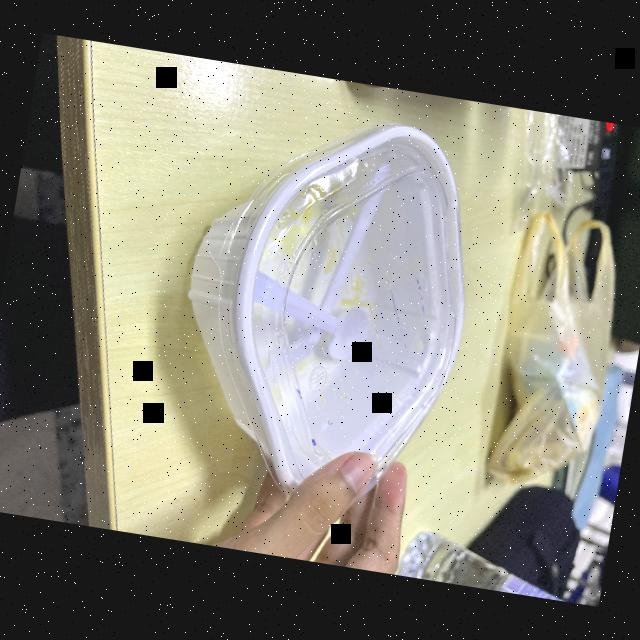plastic_box: (148, 87, 502, 520)
